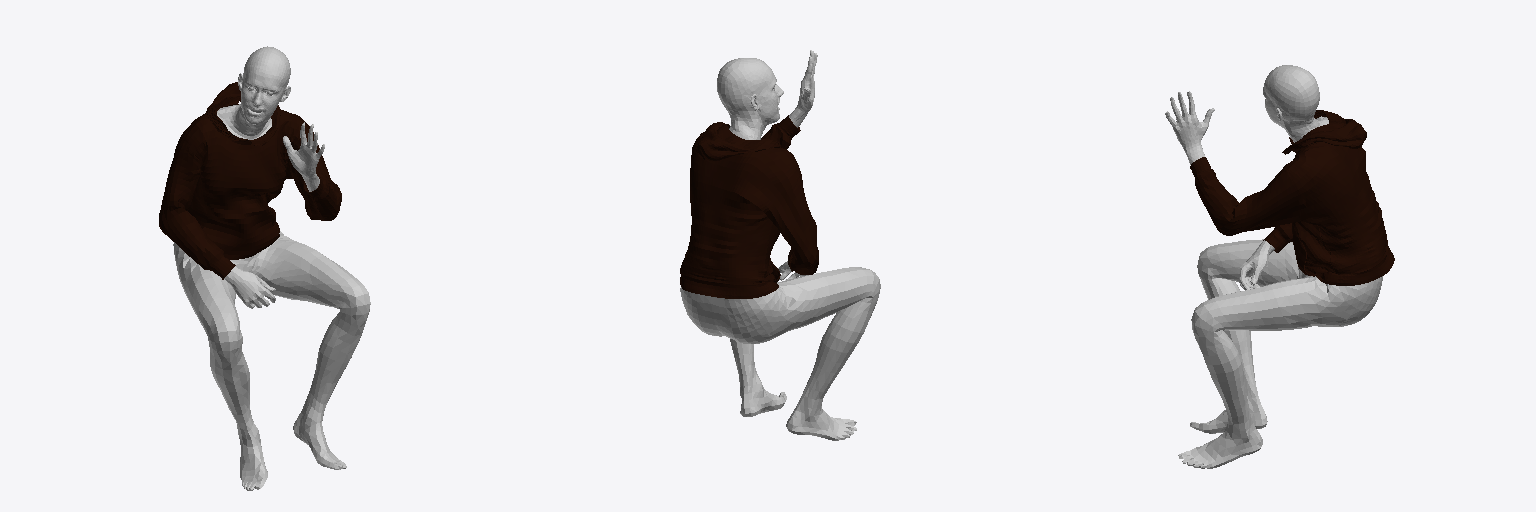
3 views of the same model, side by side, from view 1: azimuth 30°, elevation 25°; view 2: azimuth 150°, elevation 25°; view 3: azimuth 270°, elevation 25° (orthographic).
Parts seen in each view (by area): view 1: SMPLX-mesh-male, M_Hoodie; view 2: SMPLX-mesh-male, M_Hoodie; view 3: SMPLX-mesh-male, M_Hoodie.
Part boxes in pixels (x1,y1,x2,y2): SMPLX-mesh-male: (173, 46, 370, 490); M_Hoodie: (159, 82, 341, 279); SMPLX-mesh-male: (680, 50, 880, 440); M_Hoodie: (680, 115, 818, 298); SMPLX-mesh-male: (1165, 65, 1382, 468); M_Hoodie: (1190, 110, 1394, 285).
Size of the model in its own units: 6.24 by 15.29 by 8.07.